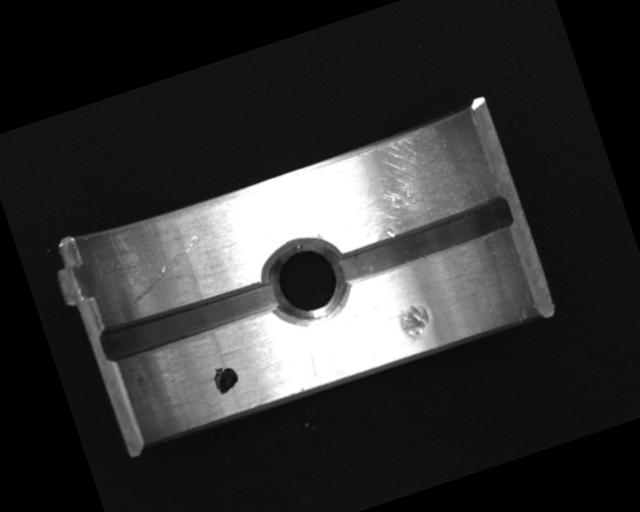blot: (209, 361, 243, 397)
bruise: (394, 300, 436, 347)
gap: (329, 192, 517, 287), (97, 277, 279, 366)
hole: (255, 227, 358, 335)
nick: (118, 231, 214, 305)
scratch: (304, 113, 492, 257)
